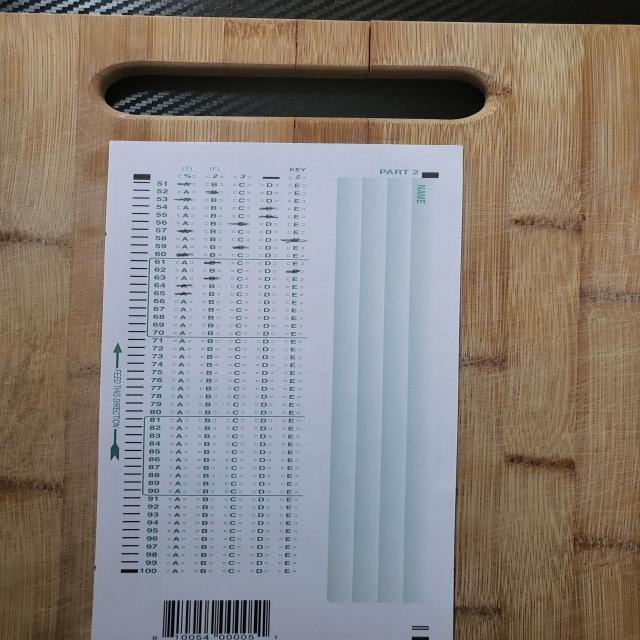scantron_back: (91, 140, 464, 639)
